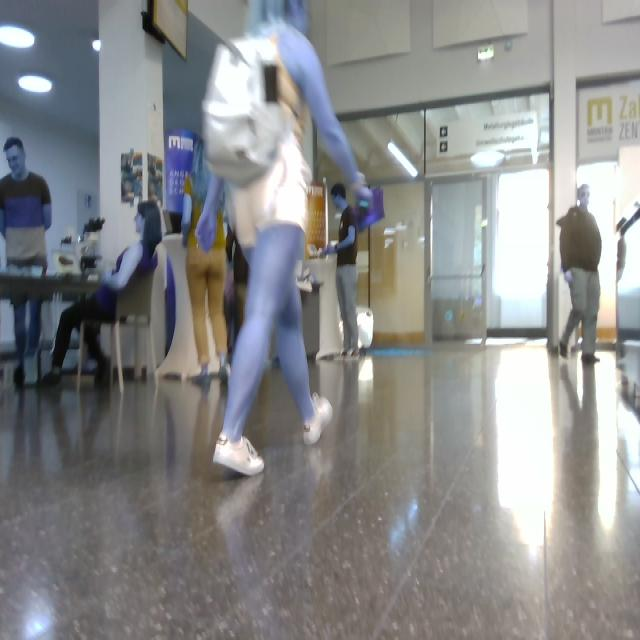chair: (112, 272, 156, 394), (77, 322, 89, 389)
door: (431, 170, 549, 340)
light bulb: (388, 142, 417, 177), (1, 26, 34, 50), (18, 74, 52, 94), (360, 308, 373, 349), (478, 45, 494, 60), (92, 40, 101, 53)
person: (204, 1, 373, 476), (45, 201, 162, 384), (182, 145, 230, 378), (557, 185, 602, 362), (1, 137, 52, 268), (324, 184, 359, 356), (11, 296, 43, 385)
pillar: (99, 1, 164, 268), (152, 246, 167, 364)
tiled floor: (1, 342, 640, 640)
